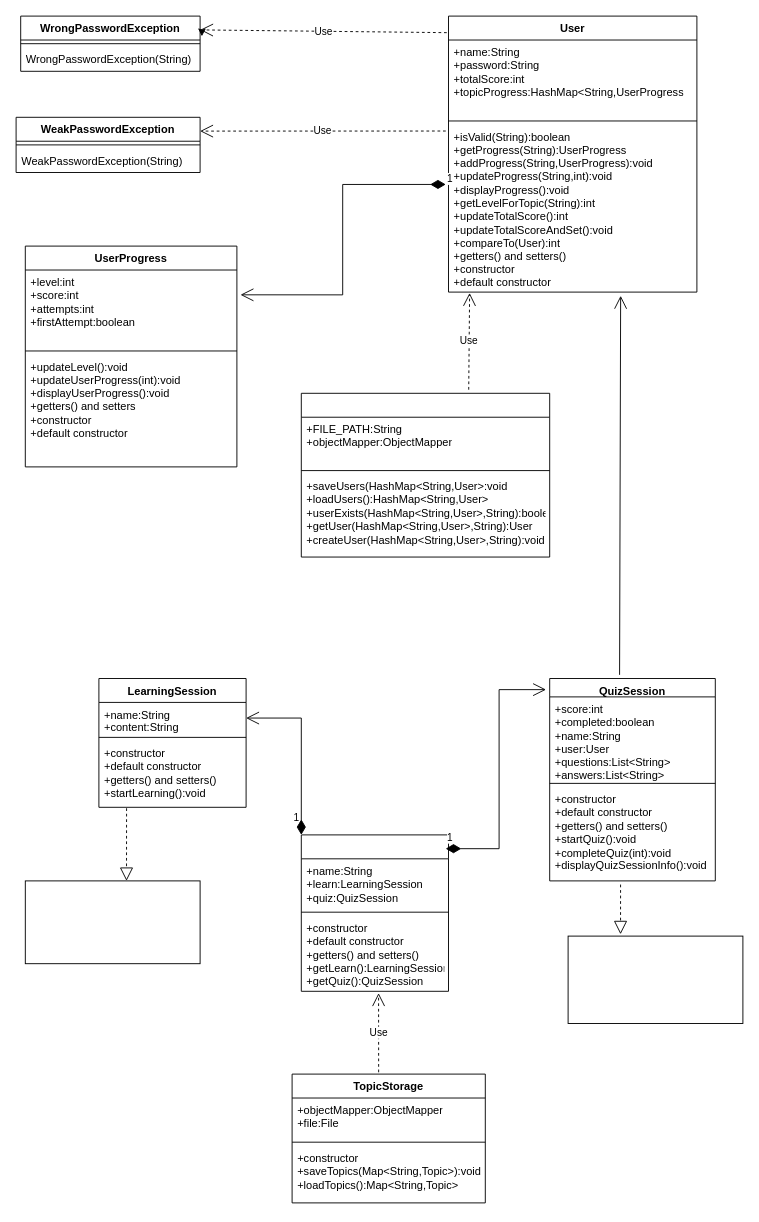
Image size: 759x1222. Some labels were removed from this diagram. Each missing label, with the box of its shape:
<<Interface>> Learnable +startLearning():void: (24, 880, 200, 964)
<<Interface>> Testable + startQuiz():void: (567, 935, 743, 1024)
DataStorage: (300, 392, 550, 557)
Topic: (300, 834, 448, 991)
